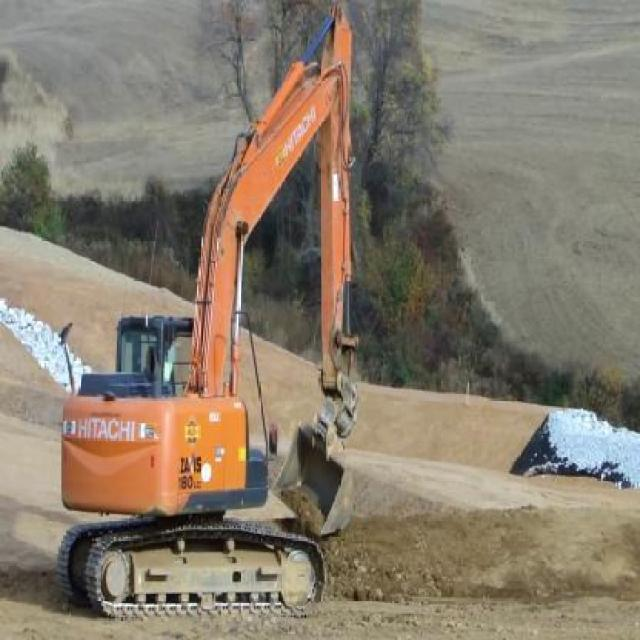Excavator: (51, 1, 367, 619)
